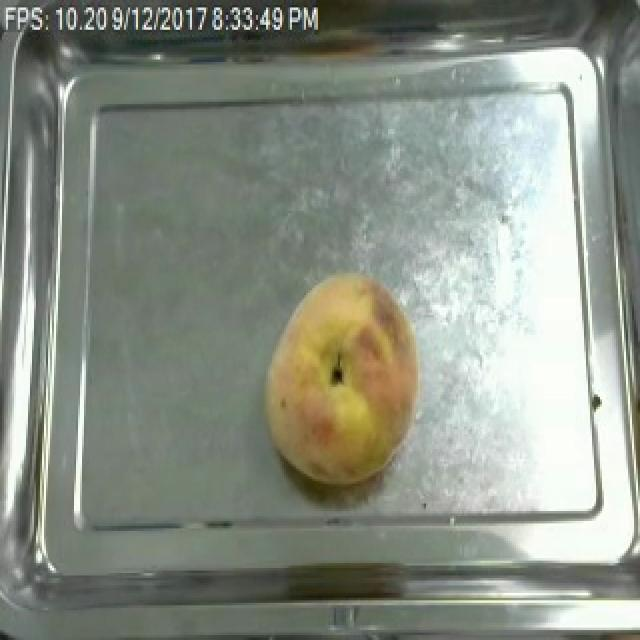Fruit: (254, 268, 432, 491)
